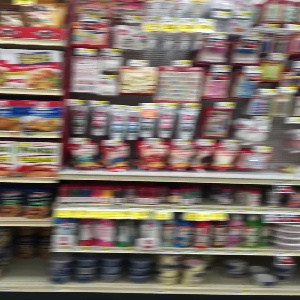void: (1, 224, 50, 293)
